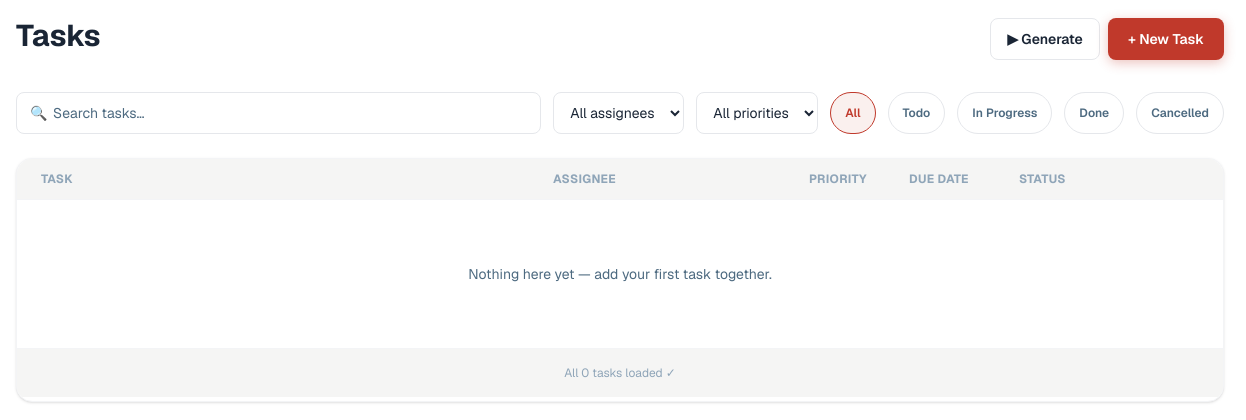
server-side search (BUG-35) › clears server results when search is erased
This screenshot has width=1246, height=420.
Type "Unique" into the field with placeholder "Search tasks…" at (279, 113), box [16,92,541,134]
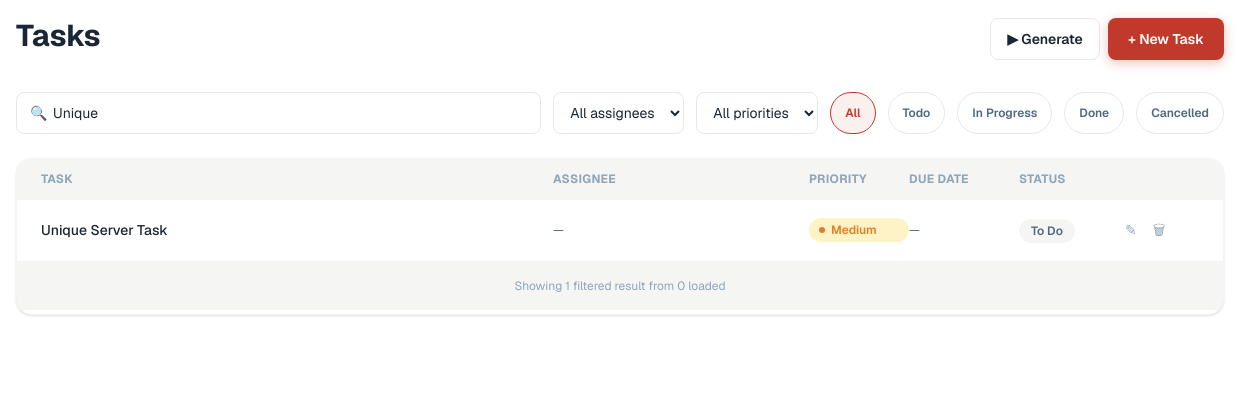
Expected: the text "Unique Server Task" is shown, [41,220,168,240]
# Clear the search — searchResults immediately set to null
Clear the field with placeholder "Search tasks…" at (279, 113), box [16,92,541,134]
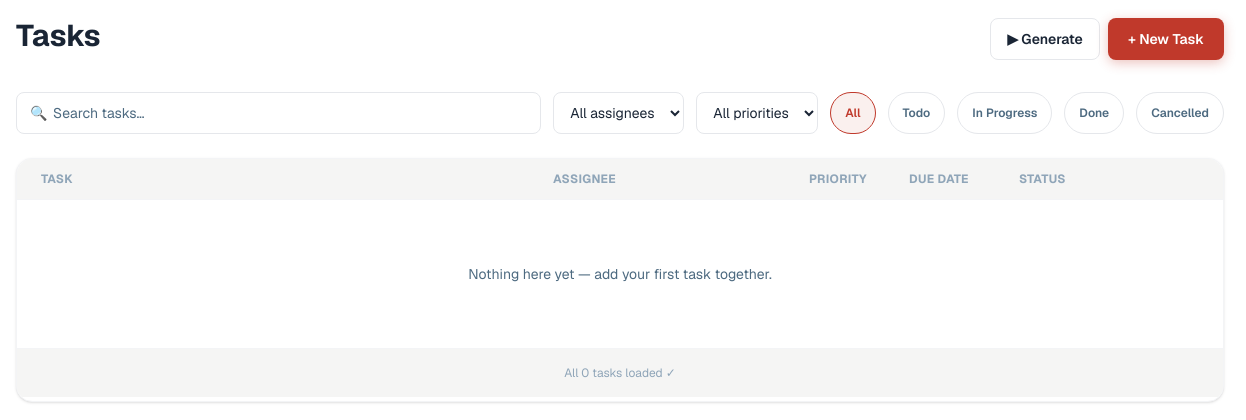
Expected: the text "Unique Server Task" is gone
